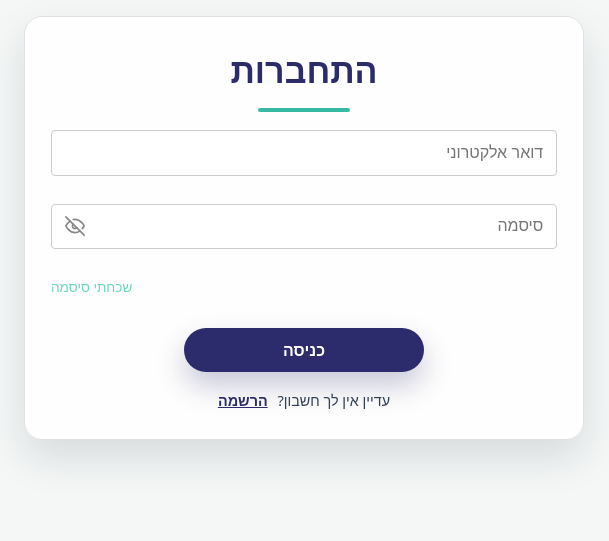
it: Error handling › shows network failure message when no .data
The image size is (609, 541).
Type "a@b.com" into the field with placeholder "דואר אלקטרוני".
click(304, 153); type("a@b.com")  # box [51,130,557,176]
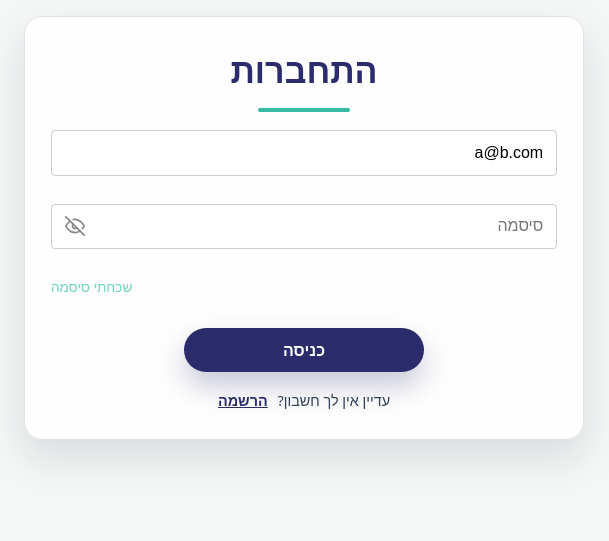
Type "12345678" into the password field with placeholder "סיסמה".
click(304, 226); type("12345678")  # box [51,204,557,249]
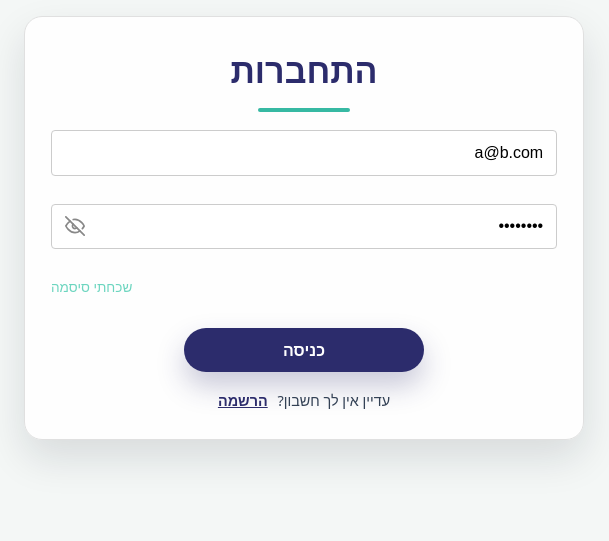
Click the button "כניסה".
click(304, 350)  # box [184,328,424,372]
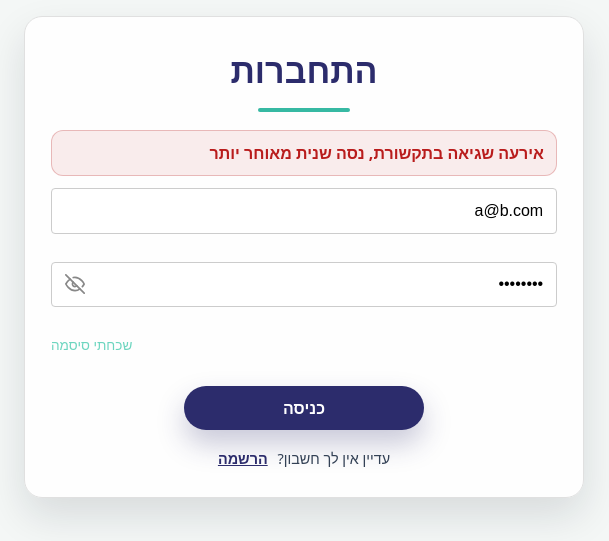
expect the text "אירעה שגיאה בתקשורת, נסה שנית מאוחר יותר" is shown: met, box [51,130,557,176]
